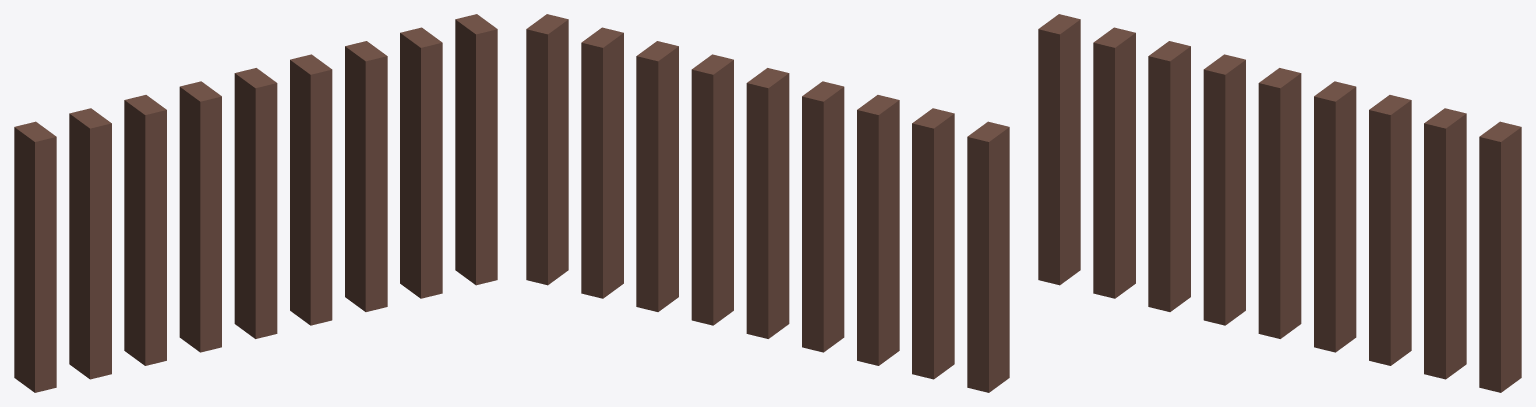
The model's file is ladder_008.fbx.
3 views of the same model, side by side, from view 1: azimuth 30°, elevation 25°; view 2: azimuth 150°, elevation 25°; view 3: azimuth 330°, elevation 25° (orthographic).
Visible parts, largest first — view 1: ladder_008; view 2: ladder_008; view 3: ladder_008.
Part boxes in pixels (left/top/right/bottom): ladder_008: left=14, top=14, right=497, bottom=392; ladder_008: left=526, top=14, right=1009, bottom=392; ladder_008: left=1038, top=14, right=1521, bottom=392.
Bounding box in the file's own units: 193 × 15 × 100.
